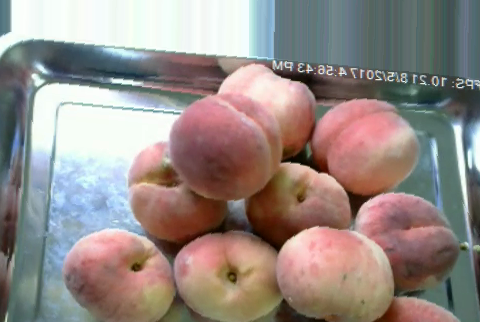Peach: (205, 62, 317, 168), (168, 93, 276, 199), (309, 97, 420, 200), (275, 225, 393, 321), (352, 191, 458, 289), (63, 229, 173, 320), (127, 140, 226, 239), (173, 231, 282, 320), (245, 161, 353, 245)
